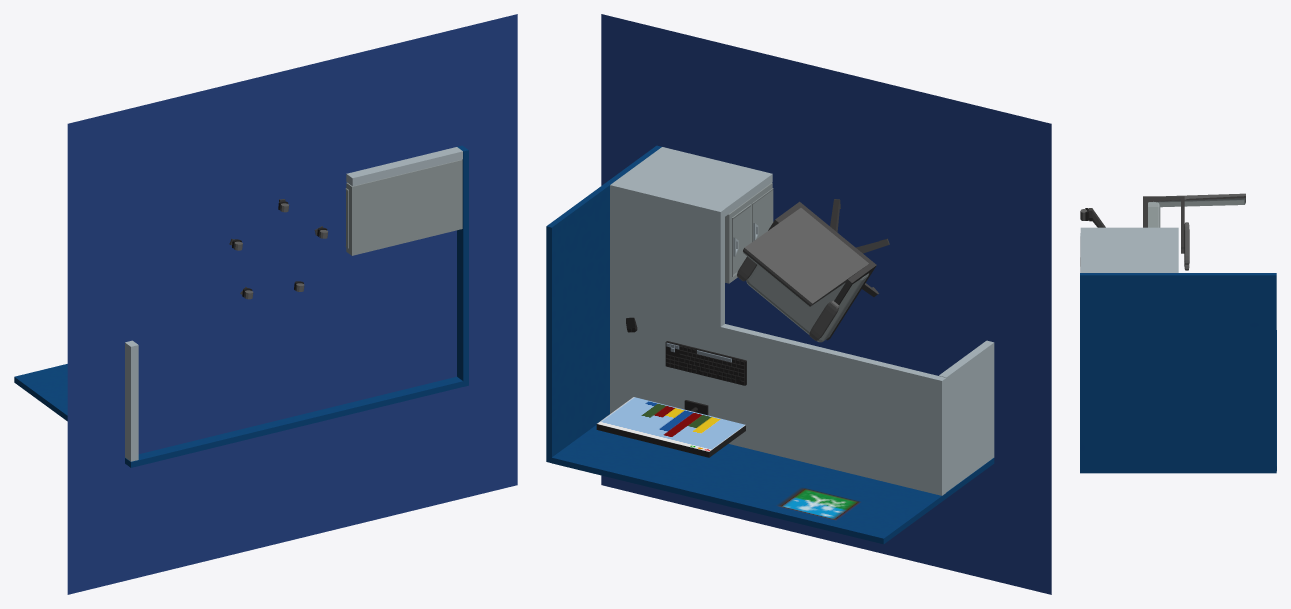
The model's file is WorkingRoom_MiddleTable.fbx.
3 renders of one model, left to right at view 1: azimuth 30°, elevation 25°; view 2: azimuth 150°, elevation 25°; view 3: azimuth 270°, elevation 25°, orthographic. The views are drawn at different scales.
Parts seen in each view (by area): view 1: Plane.274, desk; view 2: desk, Plane.274; view 3: desk.
Boxes of the visible parts, bbox=[...] form: Plane.274: bbox=[67, 14, 517, 594]; desk: bbox=[14, 145, 468, 467]; desk: bbox=[546, 145, 994, 544]; Plane.274: bbox=[601, 14, 1051, 594]; desk: bbox=[1080, 193, 1276, 473].
Bounding box in the file's own units: 4 × 4 × 1.8.
